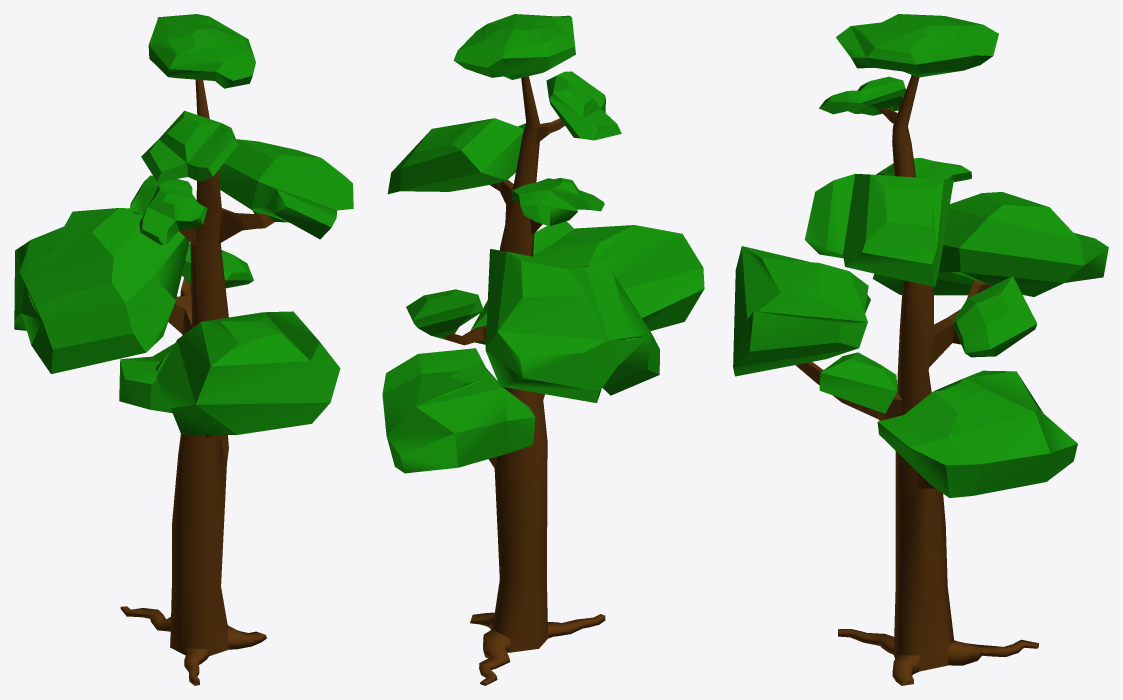
File: baum_a001.FBX
3 renders of one model, left to right at view 1: azimuth 30°, elevation 25°; view 2: azimuth 150°, elevation 25°; view 3: azimuth 270°, elevation 25°, orthographic. The views are drawn at different scales.
Visible parts, largest first — view 1: Baum_A001; view 2: Baum_A001; view 3: Baum_A001.
Part boxes in pixels (box(x1,y1,x2,y2)): Baum_A001: box(14, 14, 353, 685); Baum_A001: box(382, 14, 704, 685); Baum_A001: box(733, 14, 1108, 685).
Size of the model in its own units: 29.49 by 62.98 by 33.9.
